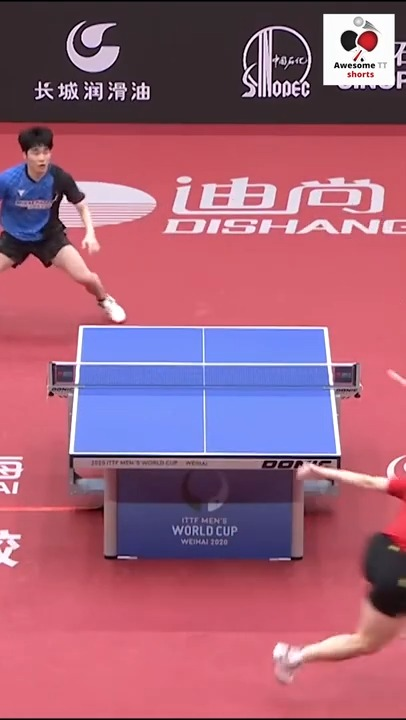Ball: (388, 372, 404, 387)
